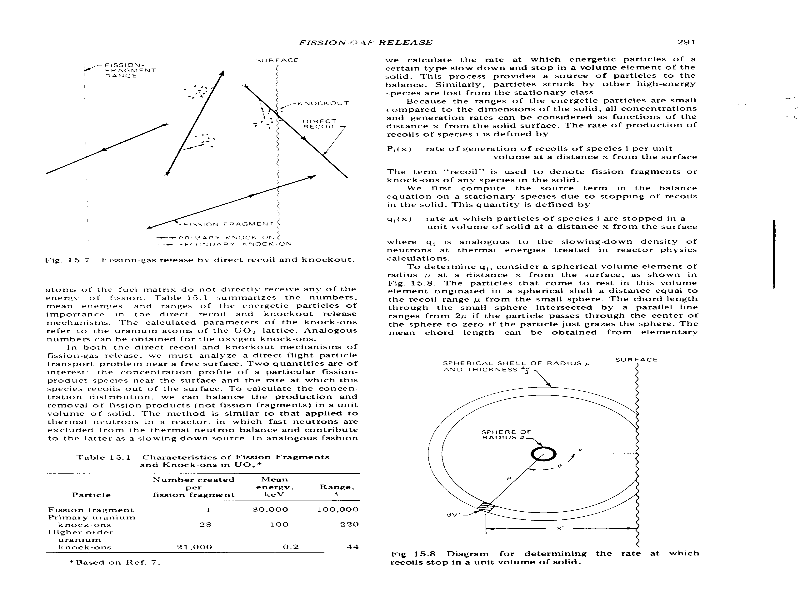table: (45, 450, 365, 556)
